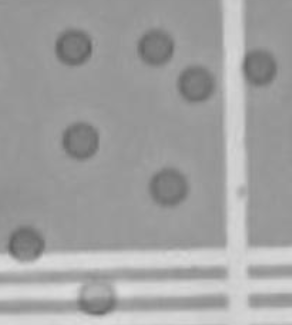cell: (55, 117, 106, 165), (144, 162, 194, 209), (50, 24, 98, 70), (3, 223, 49, 267), (76, 274, 120, 317), (173, 63, 217, 105), (133, 25, 178, 66), (239, 44, 279, 88)
